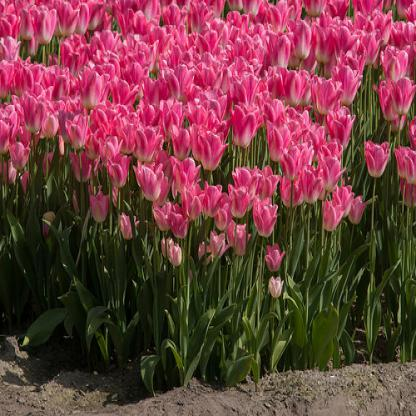TULIP: (7, 2, 410, 305)
